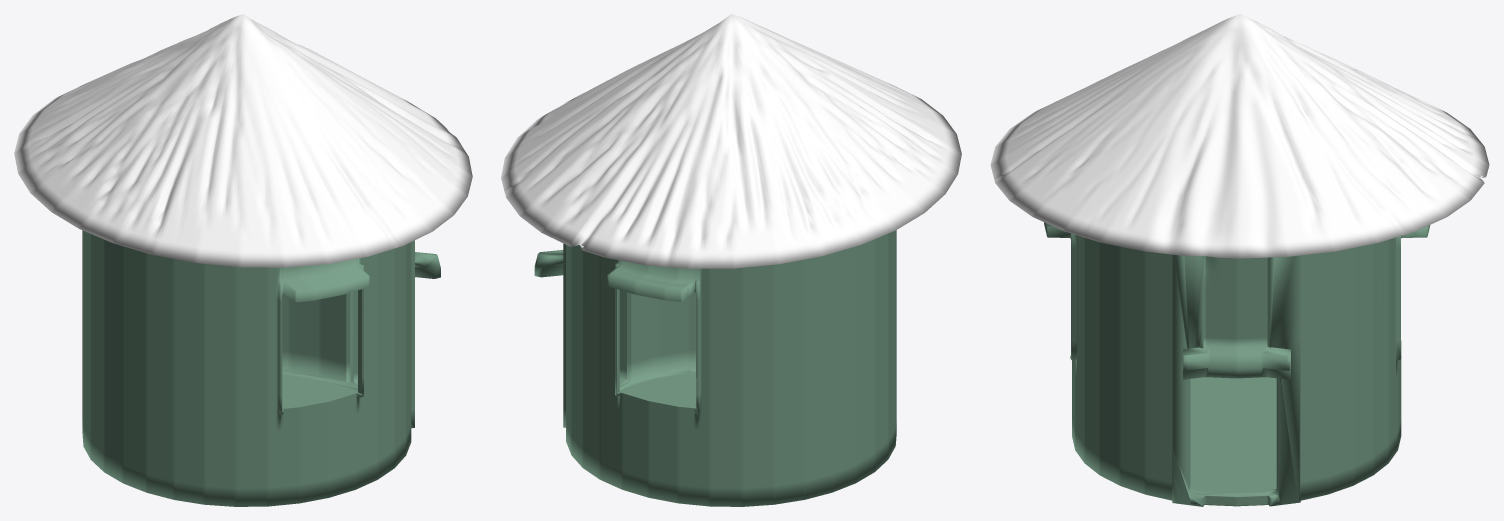
The model's file is Ndebele_Hut7[1].glb.
The picture shows the model from 3 angles, left to right: view 1: azimuth 30°, elevation 25°; view 2: azimuth 150°, elevation 25°; view 3: azimuth 270°, elevation 25°; orthographic projection.
Visible parts, largest first — view 1: Roof, Cylinder.001; view 2: Roof, Cylinder.001; view 3: Roof, Cylinder.001.
Part boxes in pixels (x1,y1,x2,y2): Roof: [14, 14, 472, 267]; Cylinder.001: [82, 230, 440, 506]; Roof: [501, 14, 961, 268]; Cylinder.001: [534, 230, 896, 506]; Roof: [990, 14, 1489, 258]; Cylinder.001: [1044, 222, 1430, 506].
Bounding box in the file's own units: 10.29 × 10.81 × 11.59.
